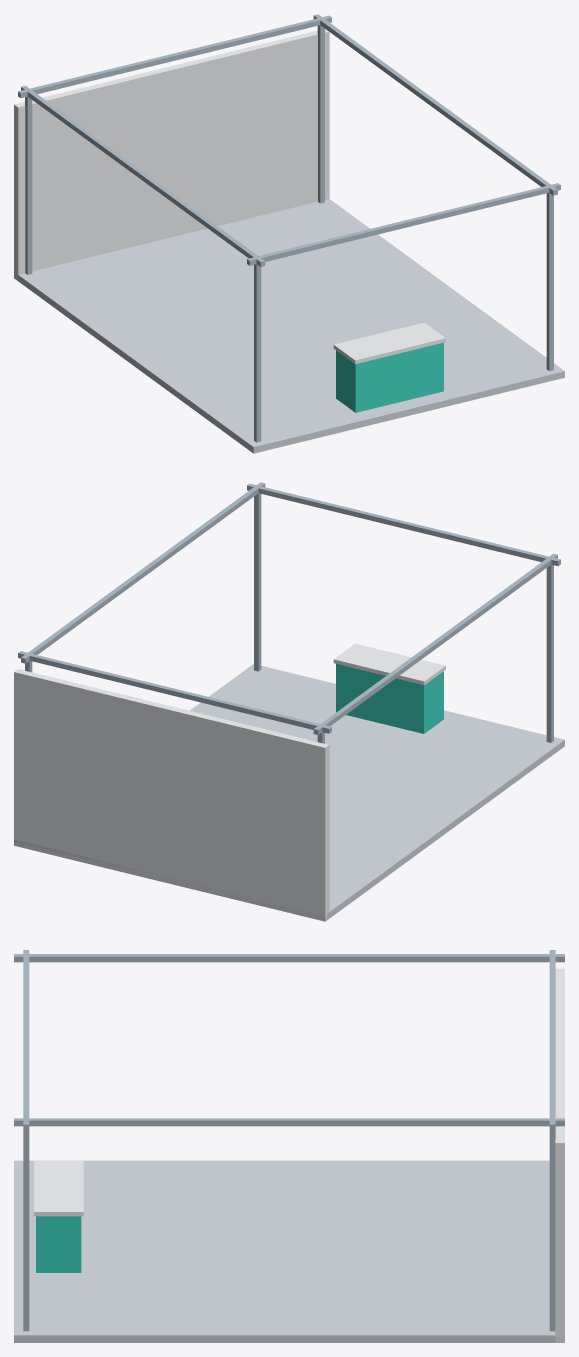
3 renders of one model, top to bottom at view 1: azimuth 30°, elevation 25°; view 2: azimuth 150°, elevation 25°; view 3: azimuth 270°, elevation 25°, orthographic. The views are drawn at different scales.
Visible parts, largest first — view 1: Exhibition Booth Concept; view 2: Exhibition Booth Concept; view 3: Exhibition Booth Concept.
Boxes of the visible parts, x1,y1,x2,y2 form: Exhibition Booth Concept: [14, 14, 564, 453]; Exhibition Booth Concept: [14, 482, 564, 921]; Exhibition Booth Concept: [14, 950, 564, 1342].
Size of the model in its own units: 6 by 3.49 by 8.
